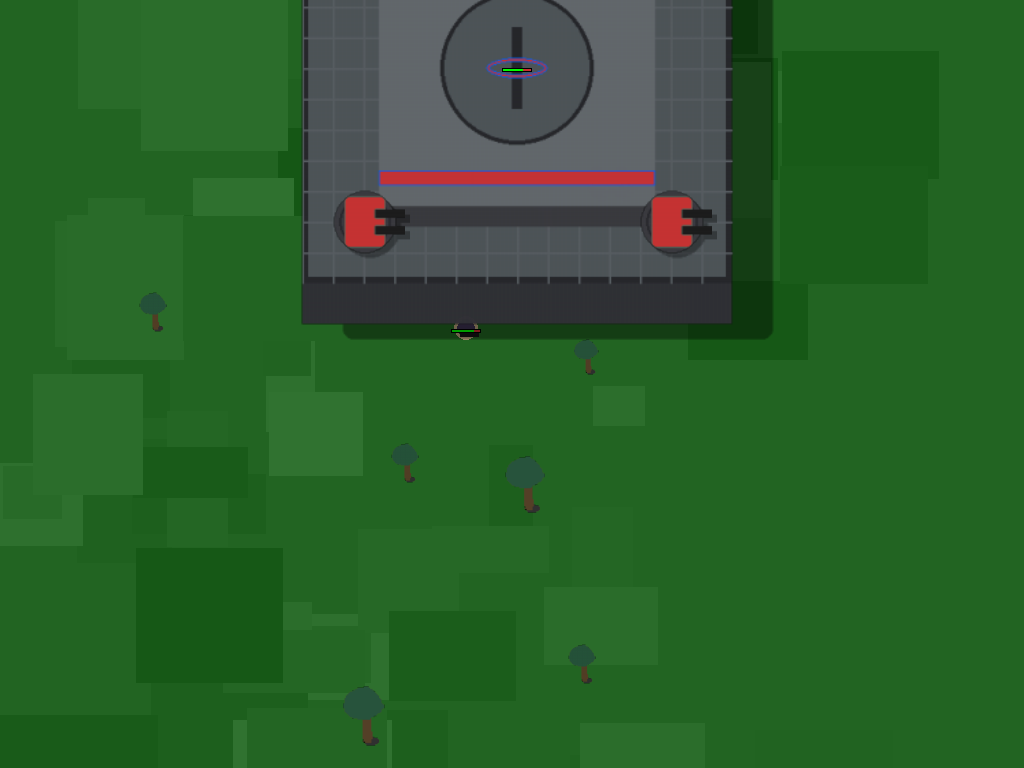FighterJet_usa: (266, 0, 769, 503)
M1A2_chn: (446, 309, 484, 347)
M1A2_usa: (586, 159, 628, 201)
